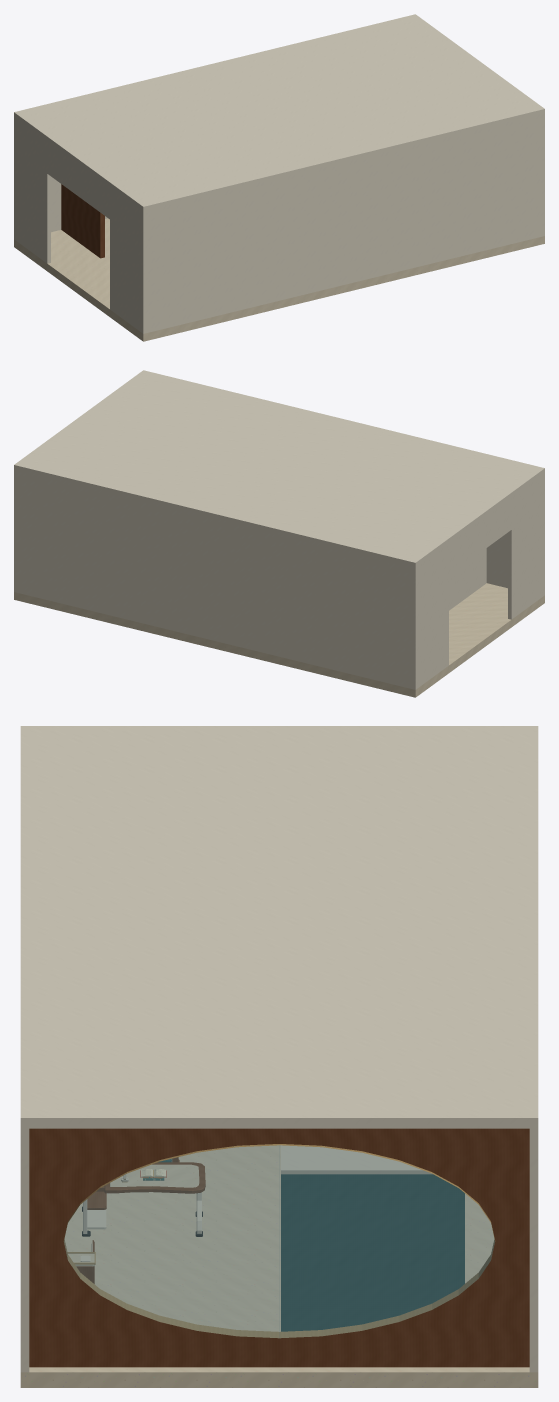
Rendered from StarAtlasSpecialty_139.glb.
3 views of the same model, one above another, from view 1: azimuth 30°, elevation 25°; view 2: azimuth 150°, elevation 25°; view 3: azimuth 270°, elevation 25° (orthographic). The views are drawn at different scales.
Visible parts, largest first — view 1: SA139_Ceiling, SA139_SouthSide, SA139_RoomFloor, SA139_EntryShoulderNorth, SA139_EntryShoulderSouth, SA139_EntryHeader, SA139_EntryPrivacyDogleg, SA139_NorthSide; view 2: SA139_Ceiling, SA139_NorthSide, SA139_RoomFloor, SA139_EntryShoulderSouth, SA139_EntryShoulderNorth, SA139_EntryHeader, SA139_WashEntrySide, SA139_SouthSide; view 3: SA139_Ceiling, SA139_OvalAtriumGlass, SA139_OvalWindowReveal, SA139_RoomFloor, SA139_Cocoon_RearLiner, SA139_OvalDepthReturn, SA139_Cocoon_Roof, SA139_NorthSide, SA139_SouthSide, SA139_LibraryStudyEdge__SINGLE_inset_stone_writing_surface, SA139_LibraryStudyEdge__SINGLE_carved_walnut_writing_edge, SA139_Cocoon_LeftLiner.
Boxes of the visible parts, x1,y1,x2,y2 form: SA139_Ceiling: (14,14,544,211); SA139_SouthSide: (141,114,544,333); SA139_RoomFloor: (14,218,544,341); SA139_EntryShoulderNorth: (16,119,50,263); SA139_EntryShoulderSouth: (110,188,141,331); SA139_EntryHeader: (46,142,110,219); SA139_EntryPrivacyDogleg: (61,184,104,258); SA139_NorthSide: (14,117,107,240); SA139_Ceiling: (14,370,544,567); SA139_NorthSide: (14,470,417,689); SA139_RoomFloor: (14,583,544,697); SA139_EntryShoulderSouth: (508,475,542,619); SA139_EntryShoulderNorth: (417,544,448,687); SA139_EntryHeader: (448,498,511,575); SA139_WashEntrySide: (449,548,486,610); SA139_SouthSide: (486,473,544,596); SA139_Ceiling: (20,726,538,1128); SA139_OvalAtriumGlass: (64,1145,494,1338); SA139_OvalWindowReveal: (29,1128,529,1367); SA139_RoomFloor: (20,1145,538,1387); SA139_Cocoon_RearLiner: (285,1174,460,1331); SA139_OvalDepthReturn: (63,1144,495,1338); SA139_Cocoon_Roof: (281,1145,432,1174); SA139_NorthSide: (529,1128,538,1372); SA139_SouthSide: (20,1128,29,1372); SA139_LibraryStudyEdge__SINGLE_inset_stone_writing_surface: (110,1164,199,1187); SA139_LibraryStudyEdge__SINGLE_carved_walnut_writing_edge: (104,1162,205,1193); SA139_Cocoon_LeftLiner: (281,1174,285,1331).
Size of the model in its own units: 12.9 by 4.14 by 7.2.
58 materials, 43 textured.
